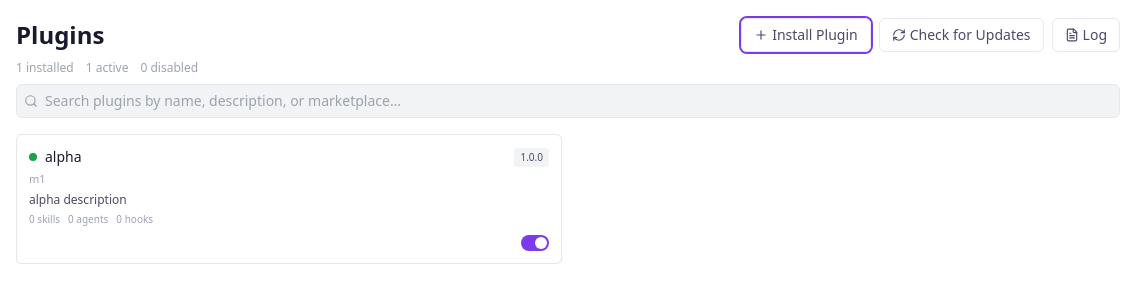
Test: PluginListView › Check for Updates surfaces an error when the IPC rejects
Click the button with test id "check-updates-btn" at (961, 35), box [879,18,1044,52]
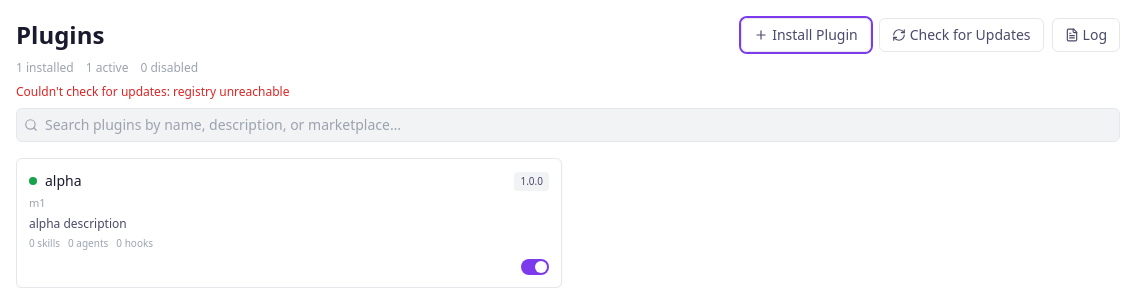
Check: the message with test id "check-updates-error" shows "registry unreachable", box [173,83,289,100]
